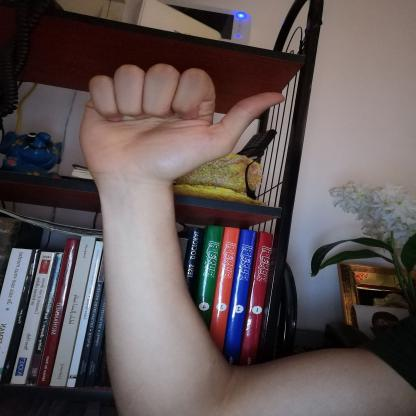DAD: (65, 54, 297, 193)
